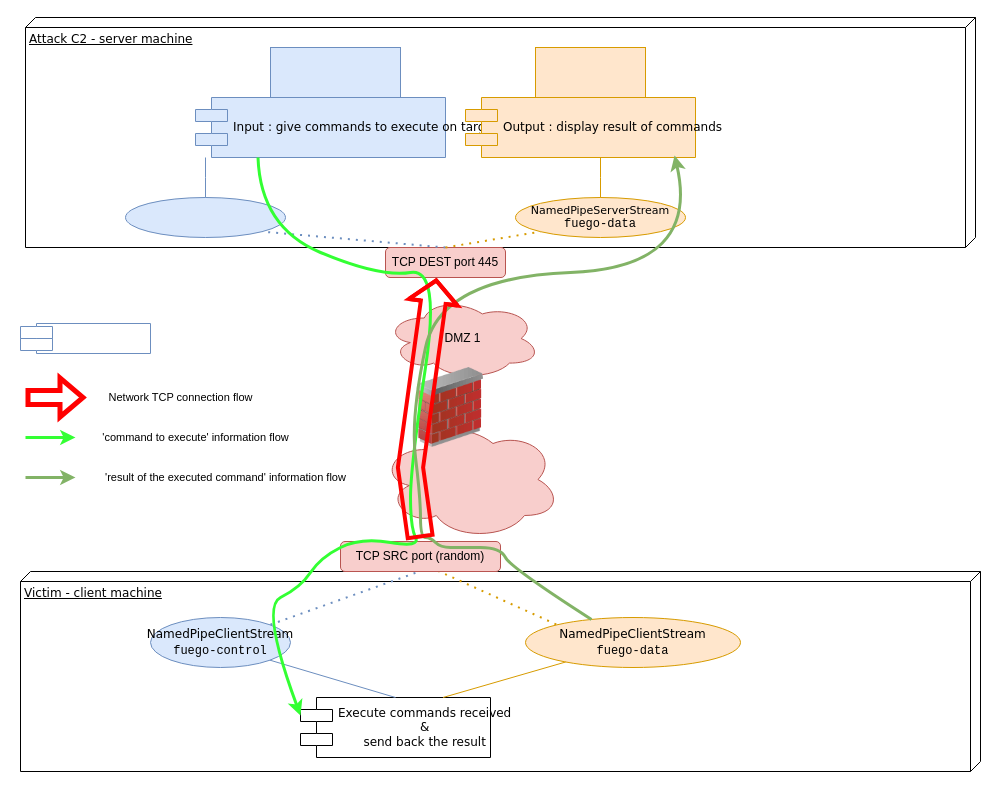
The diagram is 998 pixels wide and 789 high, and some of its shapes have lost their labels. The shapes that lost their labels are listed below. From the top down, each one's centre as x and y in pixels, then its label:
the point at 335,72: CONTROL CHANNEL
the point at 590,72: DATA CHANNEL
the point at 205,217: NamedPipeServerStream fuego-control
the point at 85,338: powershell.exe
the point at 470,479: DMZ 2
